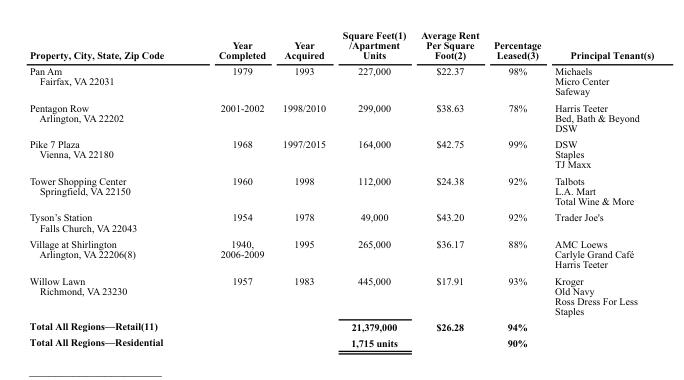table: (28, 29, 653, 348)
table column: (28, 29, 190, 348), (547, 29, 653, 348), (190, 29, 273, 348), (333, 29, 412, 348), (412, 29, 485, 348), (485, 29, 547, 348), (273, 29, 333, 348)
table column header: (28, 29, 653, 62)
table row: (28, 271, 653, 317), (28, 98, 653, 135), (28, 135, 653, 172), (28, 62, 653, 98), (28, 172, 653, 208), (28, 235, 653, 271), (28, 29, 653, 62), (28, 208, 653, 235), (28, 317, 653, 334), (28, 334, 653, 348)
